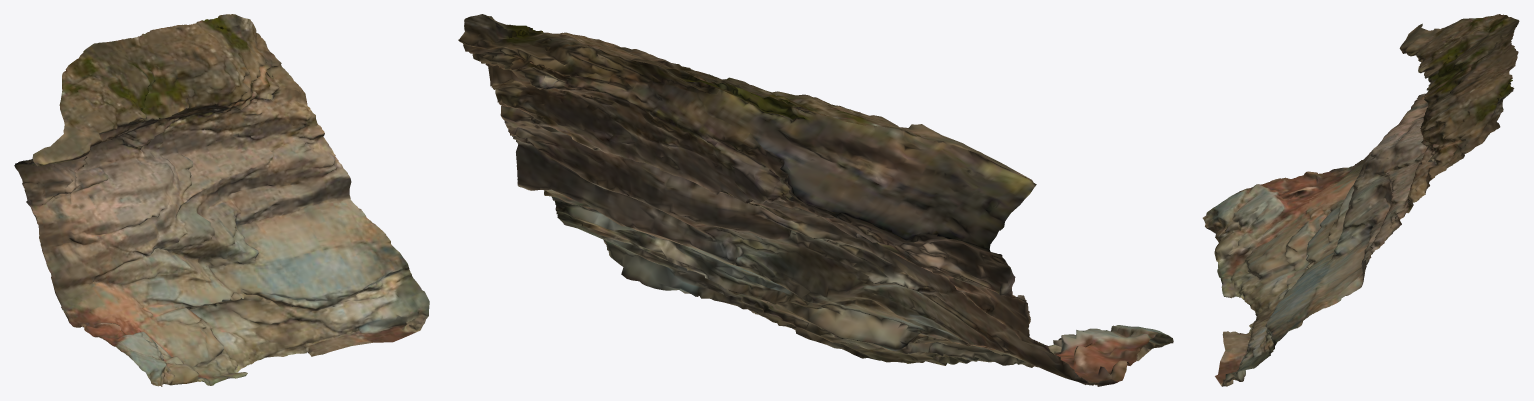
File: rock-face-01.glb
3 views of the same model, side by side, from view 1: azimuth 30°, elevation 25°; view 2: azimuth 150°, elevation 25°; view 3: azimuth 270°, elevation 25° (orthographic). The views are drawn at different scales.
Visible parts, largest first — view 1: rock_face_01; view 2: rock_face_01; view 3: rock_face_01.
Boxes of the visible parts, box(x1,y1,x2,y2) form: rock_face_01: box(14, 14, 429, 386); rock_face_01: box(458, 14, 1173, 386); rock_face_01: box(1202, 14, 1519, 386).
Bounding box in the file's own units: 4.95 × 3.56 × 3.83.
1 material, 1 textured.
